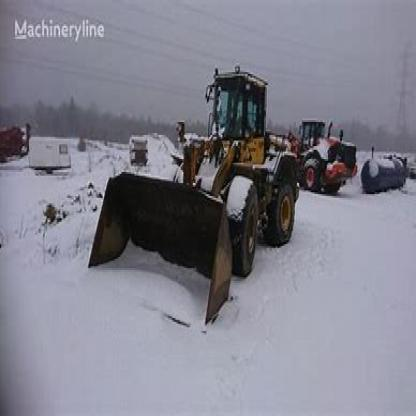bull_dozer/loader/grader: (84, 52, 306, 333)
